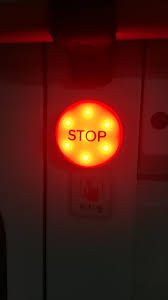bell: (51, 94, 131, 170)
